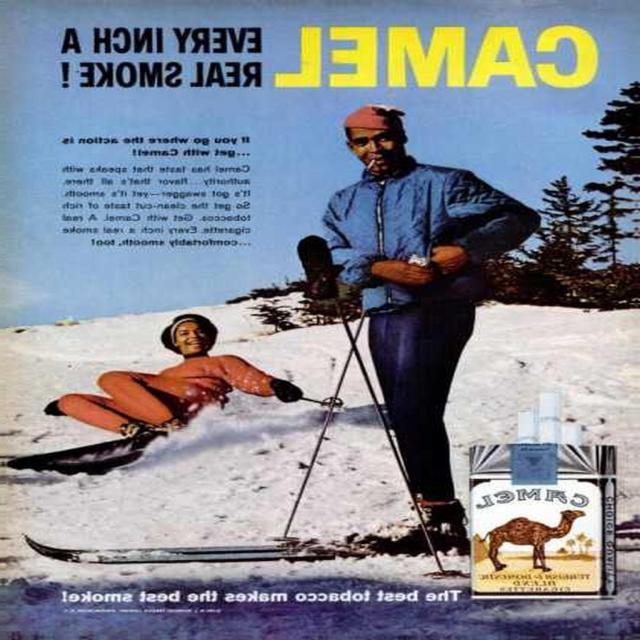smoking: (336, 105, 416, 196)
